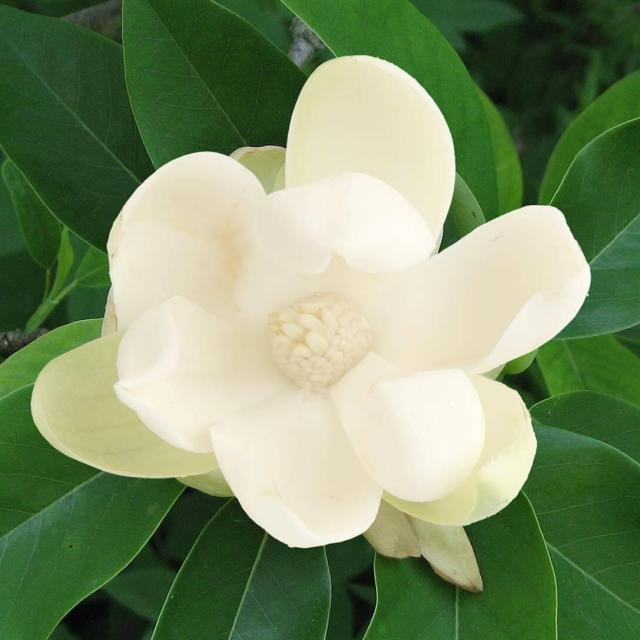organic waste: (62, 49, 600, 577)
